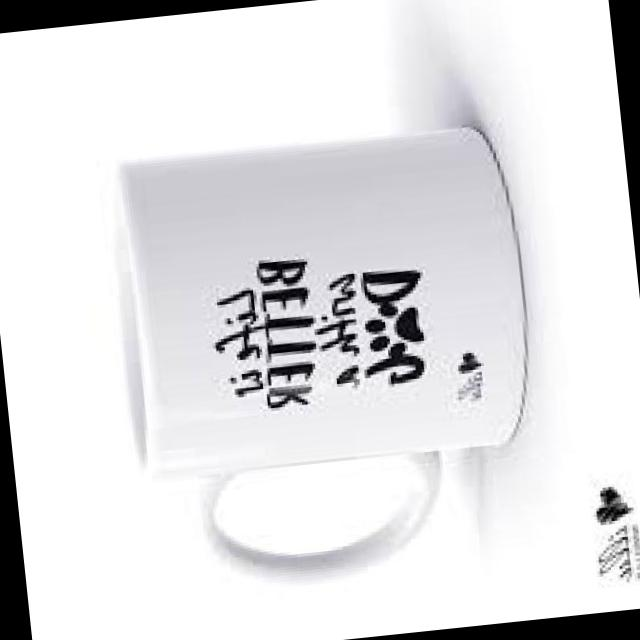Coffee Mug: (94, 120, 546, 596)
